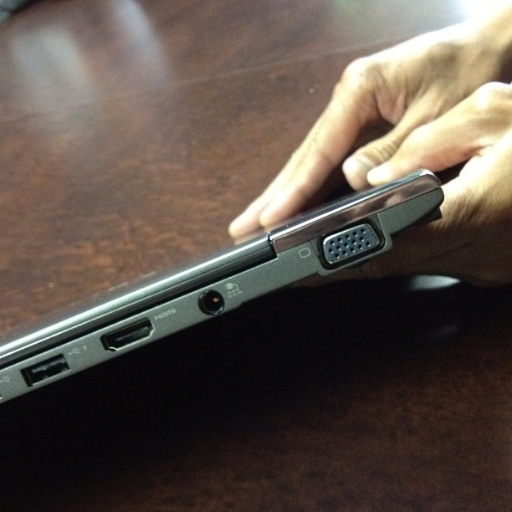hand: (225, 15, 510, 238), (289, 79, 510, 287)
